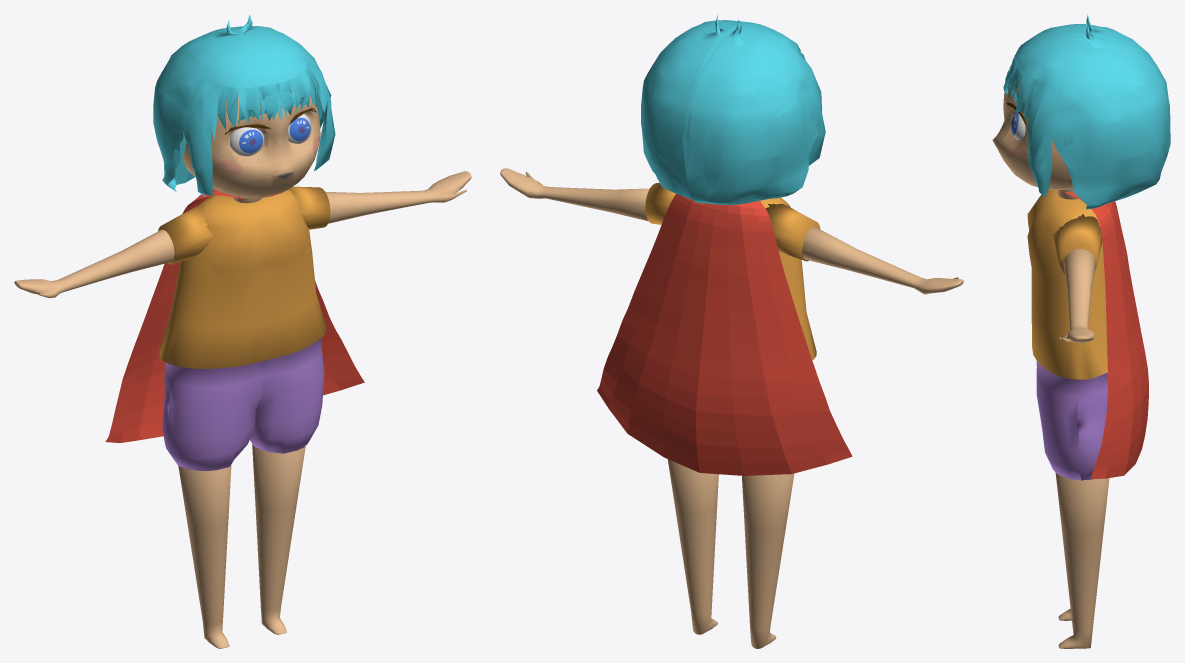
Rendered from Player04.fbx.
3 views of the same model, side by side, from view 1: azimuth 30°, elevation 25°; view 2: azimuth 150°, elevation 25°; view 3: azimuth 270°, elevation 25° (orthographic).
Parts seen in each view (by area): view 1: Body, Hear, RReg, mant, Head, RArm, Eye; view 2: mant, Hear, RReg, RArm, Body; view 3: Hear, Body, mant, RReg, Head, RArm, Eye.
Part boxes in pixels (x1,y1,x2,y2): Body: (158, 186, 330, 470); Hear: (153, 14, 335, 197); RReg: (178, 444, 305, 648); mant: (105, 188, 364, 442); Head: (182, 89, 320, 198); RArm: (14, 171, 471, 298); Eye: (230, 114, 311, 156); mant: (597, 194, 852, 475); Hear: (641, 14, 825, 205); RReg: (667, 459, 794, 648); RArm: (500, 168, 963, 294); Body: (645, 183, 820, 360); Hear: (1003, 14, 1170, 209); Body: (1027, 189, 1107, 480); mant: (1059, 190, 1148, 478); RReg: (1055, 473, 1109, 648); Head: (992, 77, 1072, 190); RArm: (1059, 249, 1095, 342); Eye: (1011, 112, 1025, 140).
Size of the model in its own units: 333 by 431 by 114.
